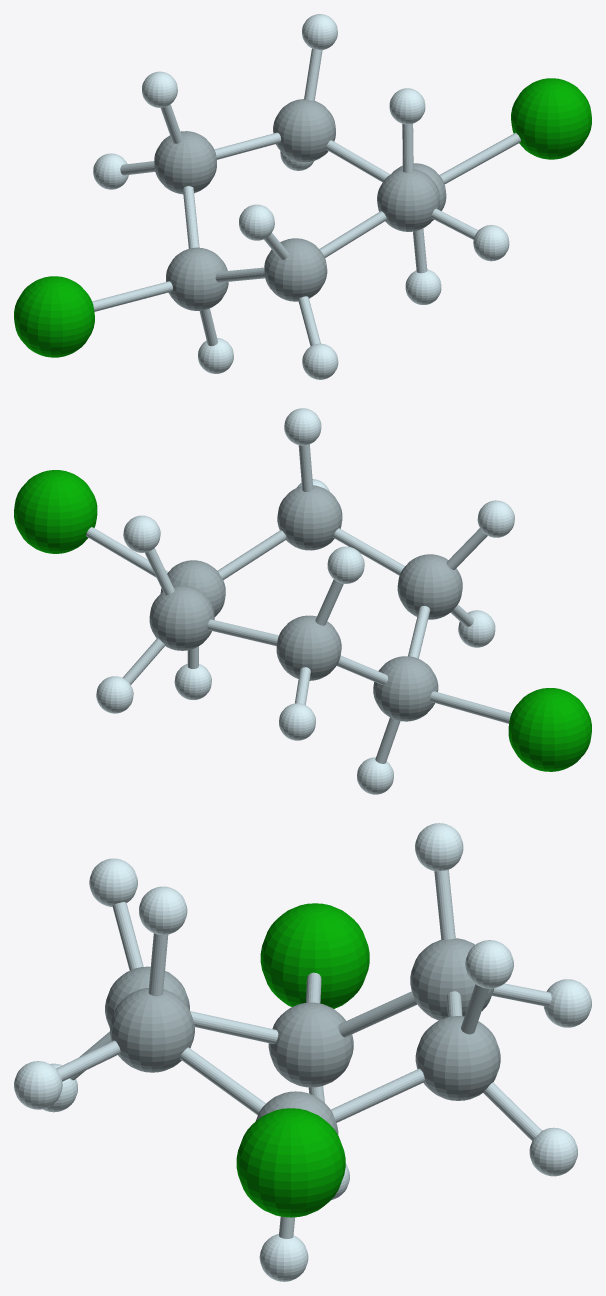
Rendered from irc_step_232.glb.
The picture shows the model from 3 angles, top to bottom: view 1: azimuth 30°, elevation 25°; view 2: azimuth 150°, elevation 25°; view 3: azimuth 270°, elevation 25°; orthographic projection. The views are drawn at different scales.
Parts seen in each view (by area): view 1: Renderer Node; view 2: Renderer Node; view 3: Renderer Node.
Boxes of the visible parts, box(x1,y1,x2,y2) form: Renderer Node: box(14, 14, 591, 379); Renderer Node: box(14, 408, 591, 794); Renderer Node: box(14, 823, 591, 1281).
Size of the model in its own units: 7.11 by 3.59 by 4.75.
